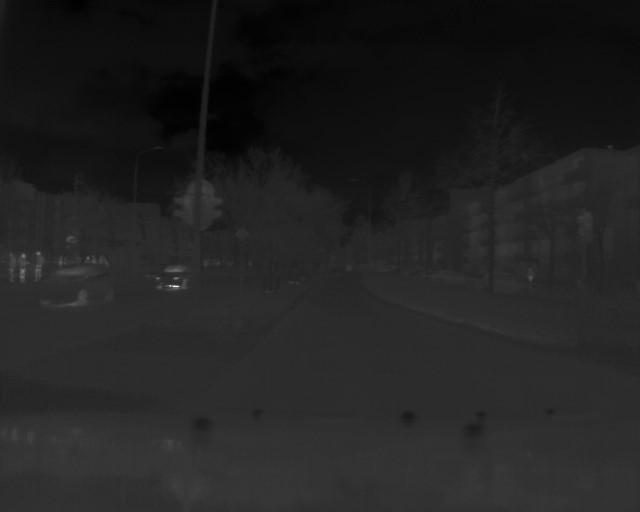car: (36, 263, 119, 307), (151, 262, 197, 290)
person: (16, 250, 31, 285), (3, 252, 16, 284), (33, 247, 45, 281)
